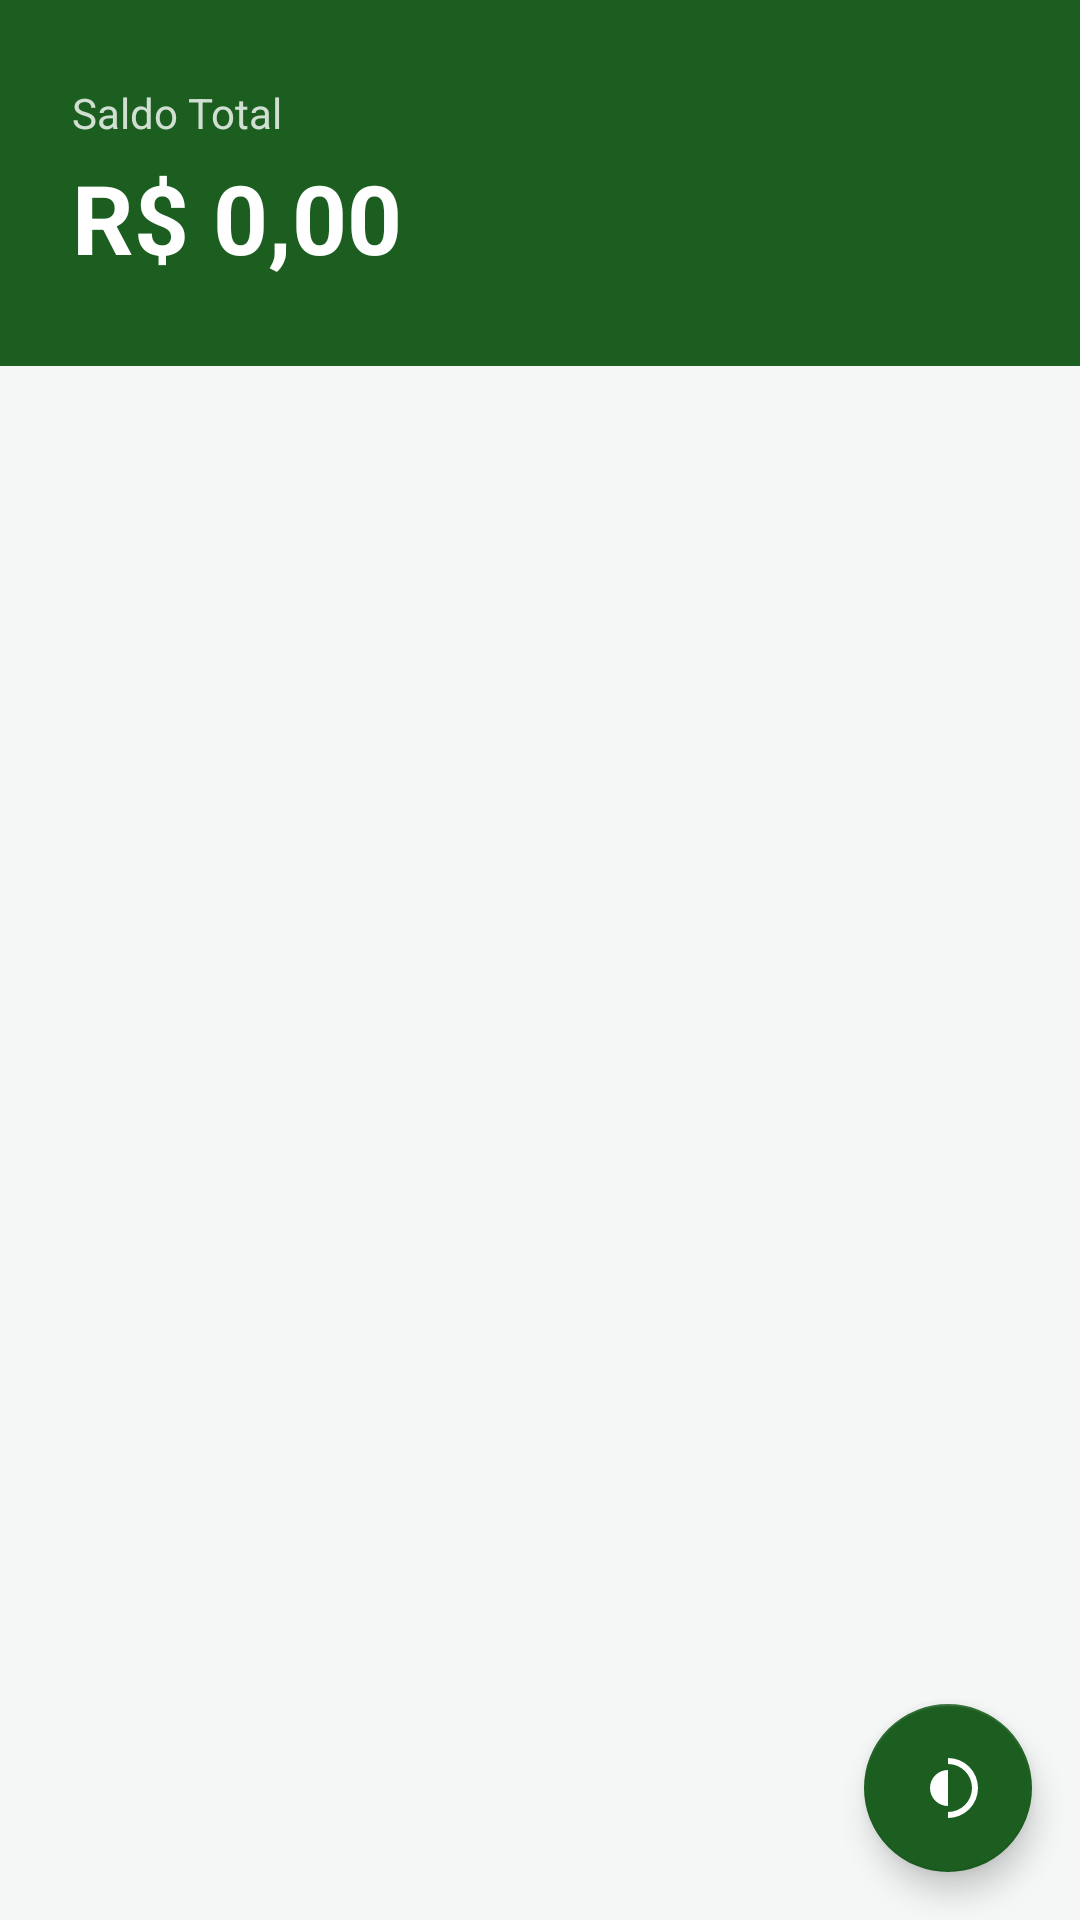

Icon bounding boxes for this 1080px x 1920px phone screenshot, format (x1, y1, x2, y2):
Alternar tema: (864, 1704, 1032, 1872)
